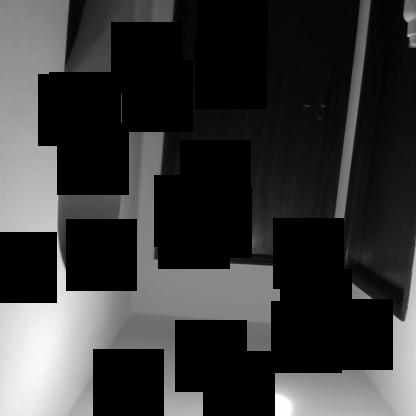Porte: (151, 1, 361, 272)
